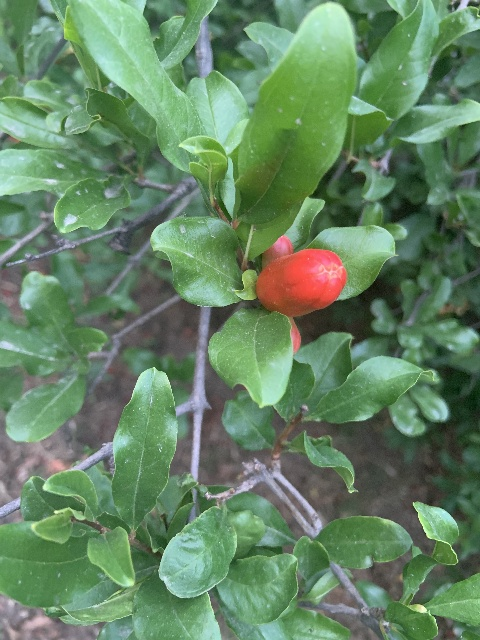bud: (256, 247, 347, 315), (261, 234, 293, 266), (288, 319, 301, 354)
